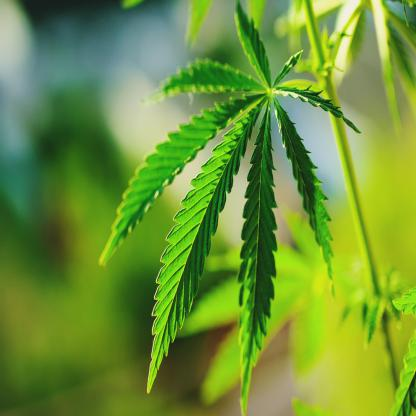cannabis: (89, 4, 373, 409)
